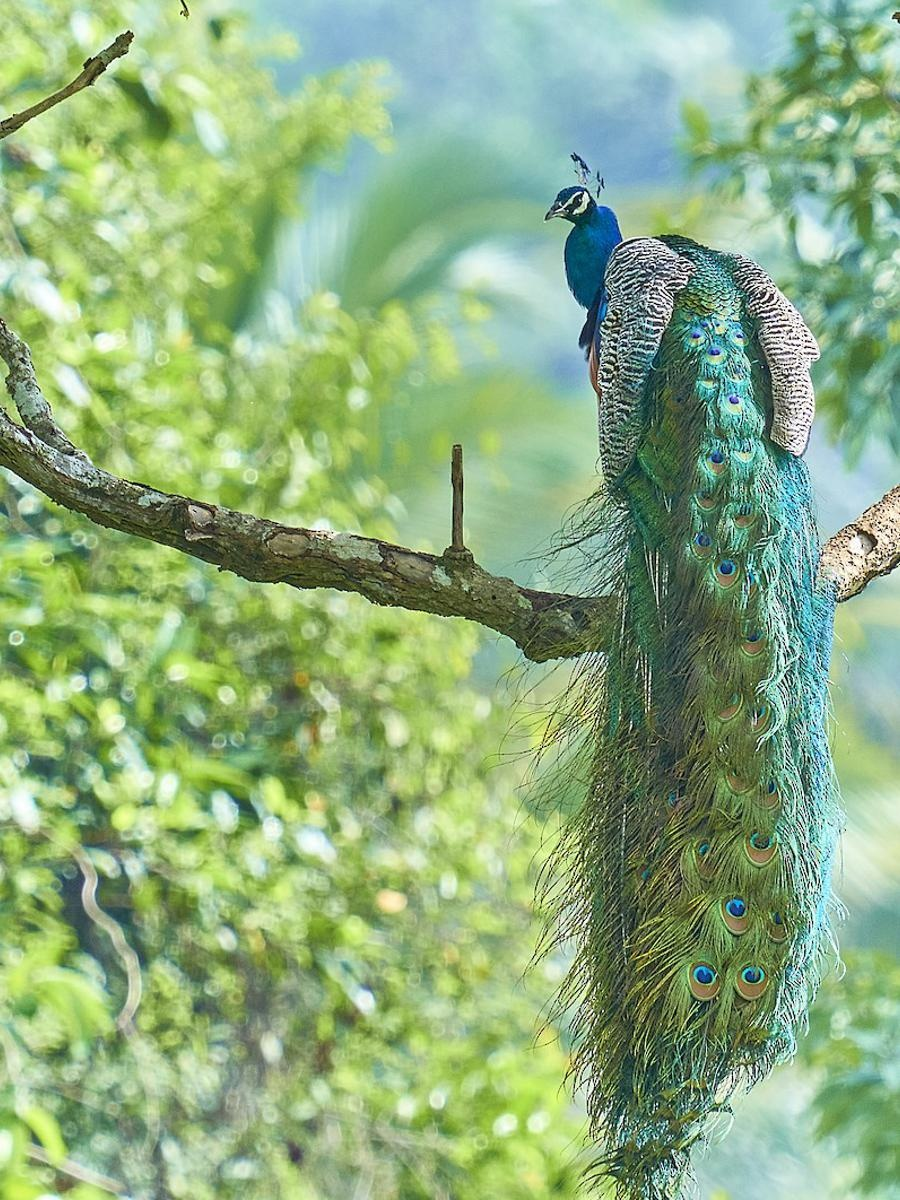peacock: (506, 121, 899, 1059)
